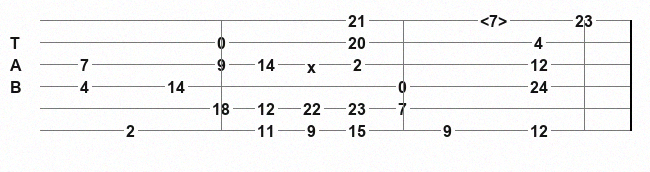0: (217, 34, 230, 50), (398, 78, 411, 94)
11: (257, 122, 279, 138)
12: (257, 100, 279, 116), (530, 122, 552, 138), (530, 56, 552, 72)
14: (167, 78, 189, 94), (257, 56, 279, 72)
15: (348, 122, 370, 138)
18: (212, 100, 234, 116)
2: (126, 122, 139, 138), (353, 56, 366, 72)
20: (348, 34, 370, 50)
21: (348, 12, 370, 28)
22: (303, 100, 325, 116)
23: (348, 100, 370, 116), (575, 12, 597, 28)
24: (530, 78, 552, 94)
4: (80, 78, 93, 94), (534, 34, 547, 50)
7: (80, 56, 93, 72), (398, 100, 411, 116)
9: (217, 56, 230, 72), (307, 122, 320, 138), (443, 122, 456, 138)
harmonic: (480, 12, 511, 28)
x: (307, 58, 320, 71)
